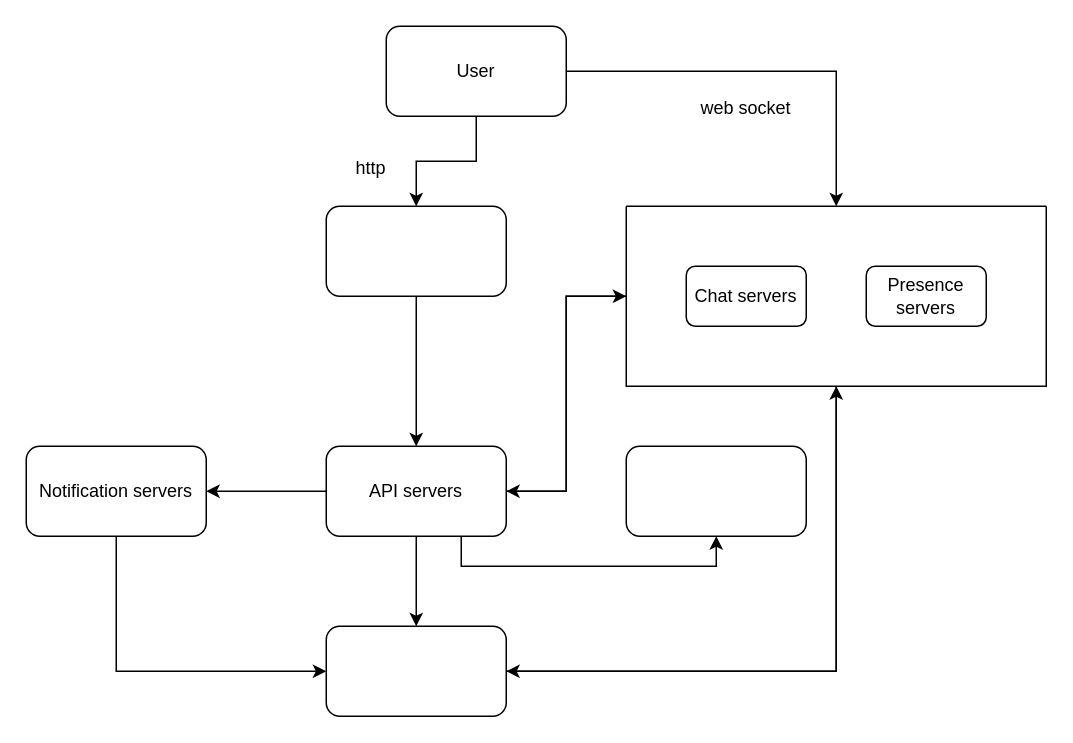
This 1073x743 diagram has some shape labels left out. The shapes that lost their labels are listed below. From the top down, each one's centre as x and y in pixels, then its label:
At point (415, 250): "Load balancer".
At point (715, 490): "RDBMS".
At point (415, 670): "Key-value store".
